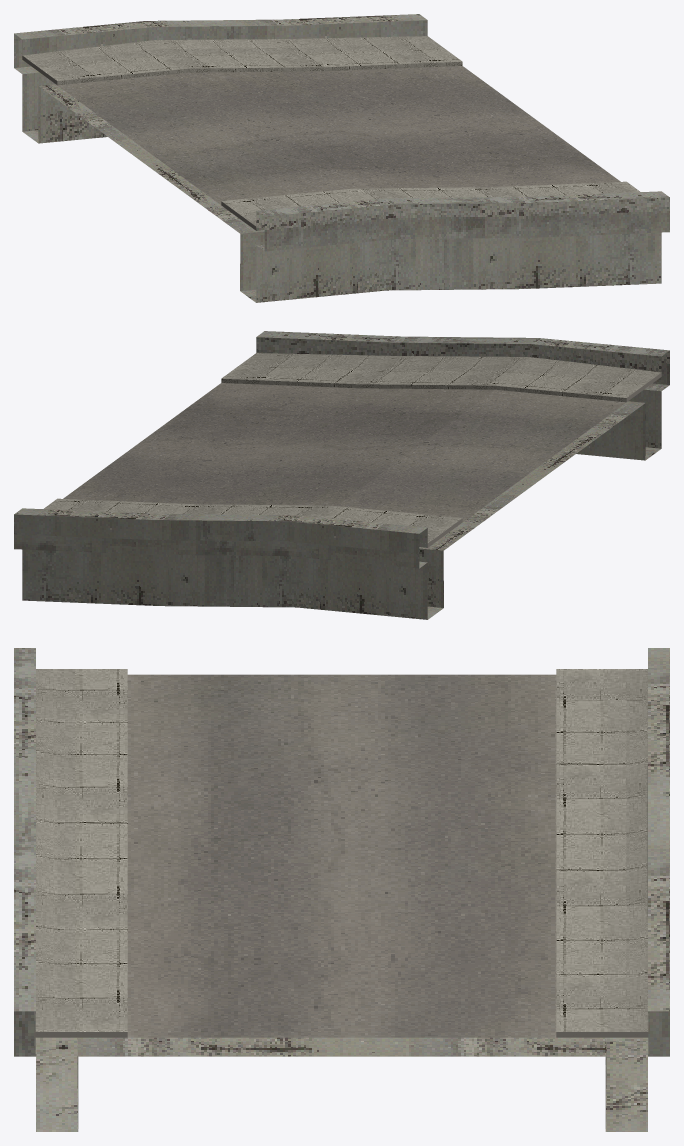
File: road_3_bridge_ramp.glb
The picture shows the model from 3 angles, top to bottom: view 1: azimuth 30°, elevation 25°; view 2: azimuth 150°, elevation 25°; view 3: azimuth 270°, elevation 25°; orthographic projection. The views are drawn at different scales.
Parts seen in each view (by area): view 1: road_3_bridge_ramp; view 2: road_3_bridge_ramp; view 3: road_3_bridge_ramp.
Part boxes in pixels (x1=…): road_3_bridge_ramp: x1=14, y1=14, x2=669, y2=302; road_3_bridge_ramp: x1=14, y1=331, x2=669, y2=619; road_3_bridge_ramp: x1=14, y1=648, x2=669, y2=1131.
Bounding box in the file's own units: 16 × 6.48 × 17.13.
3 materials, 3 textured.
